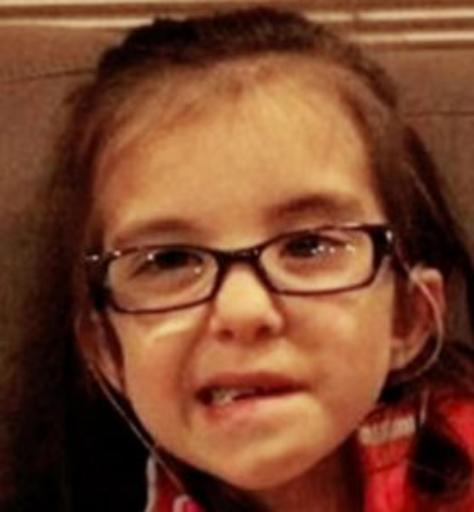left_eye: (277, 235, 350, 262)
left_lip_corner: (291, 376, 318, 404)
right_eye: (132, 250, 210, 281)
right_lip_corner: (185, 386, 212, 410)
